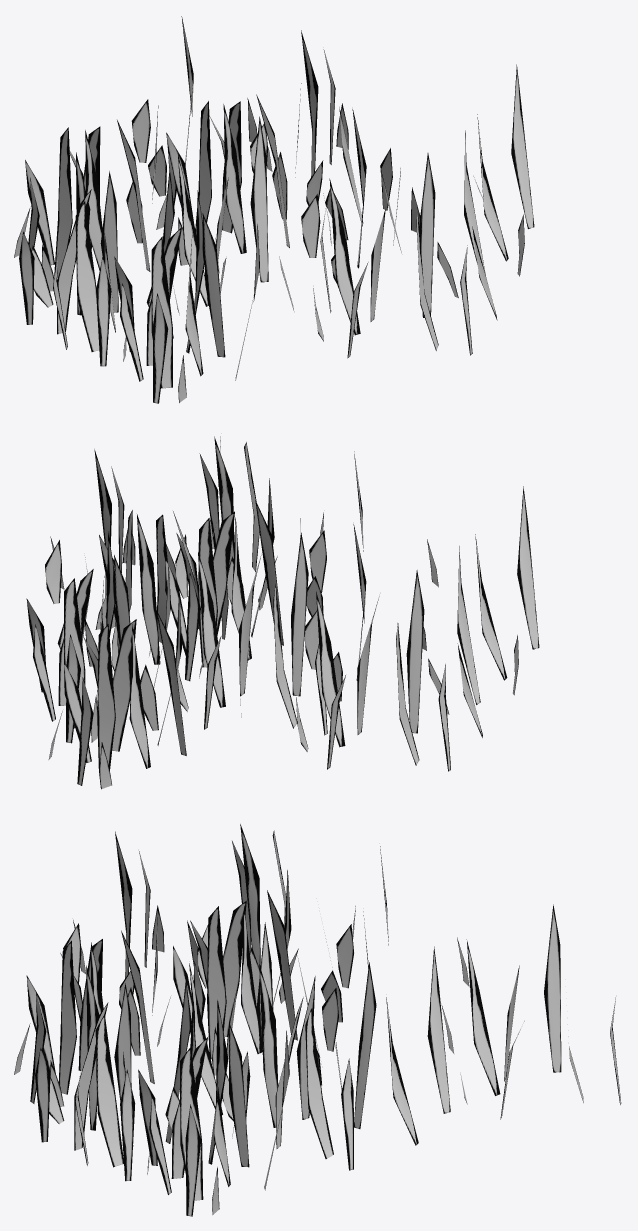
File: cave-grass.glb
3 renders of one model, top to bottom at view 1: azimuth 30°, elevation 25°; view 2: azimuth 150°, elevation 25°; view 3: azimuth 270°, elevation 25°, orthographic. The views are drawn at different scales.
Visible parts, largest first — view 1: prop_0e54c9aa; view 2: prop_0e54c9aa; view 3: prop_0e54c9aa.
Boxes of the visible parts, left/top/right/bottom form: prop_0e54c9aa: left=14, top=16, right=534, bottom=403; prop_0e54c9aa: left=26, top=436, right=539, bottom=789; prop_0e54c9aa: left=14, top=824, right=621, bottom=1216.
Size of the model in its own units: 2.06 by 0.5529 by 1.91.
Materials: 1 (1 with a texture image).
